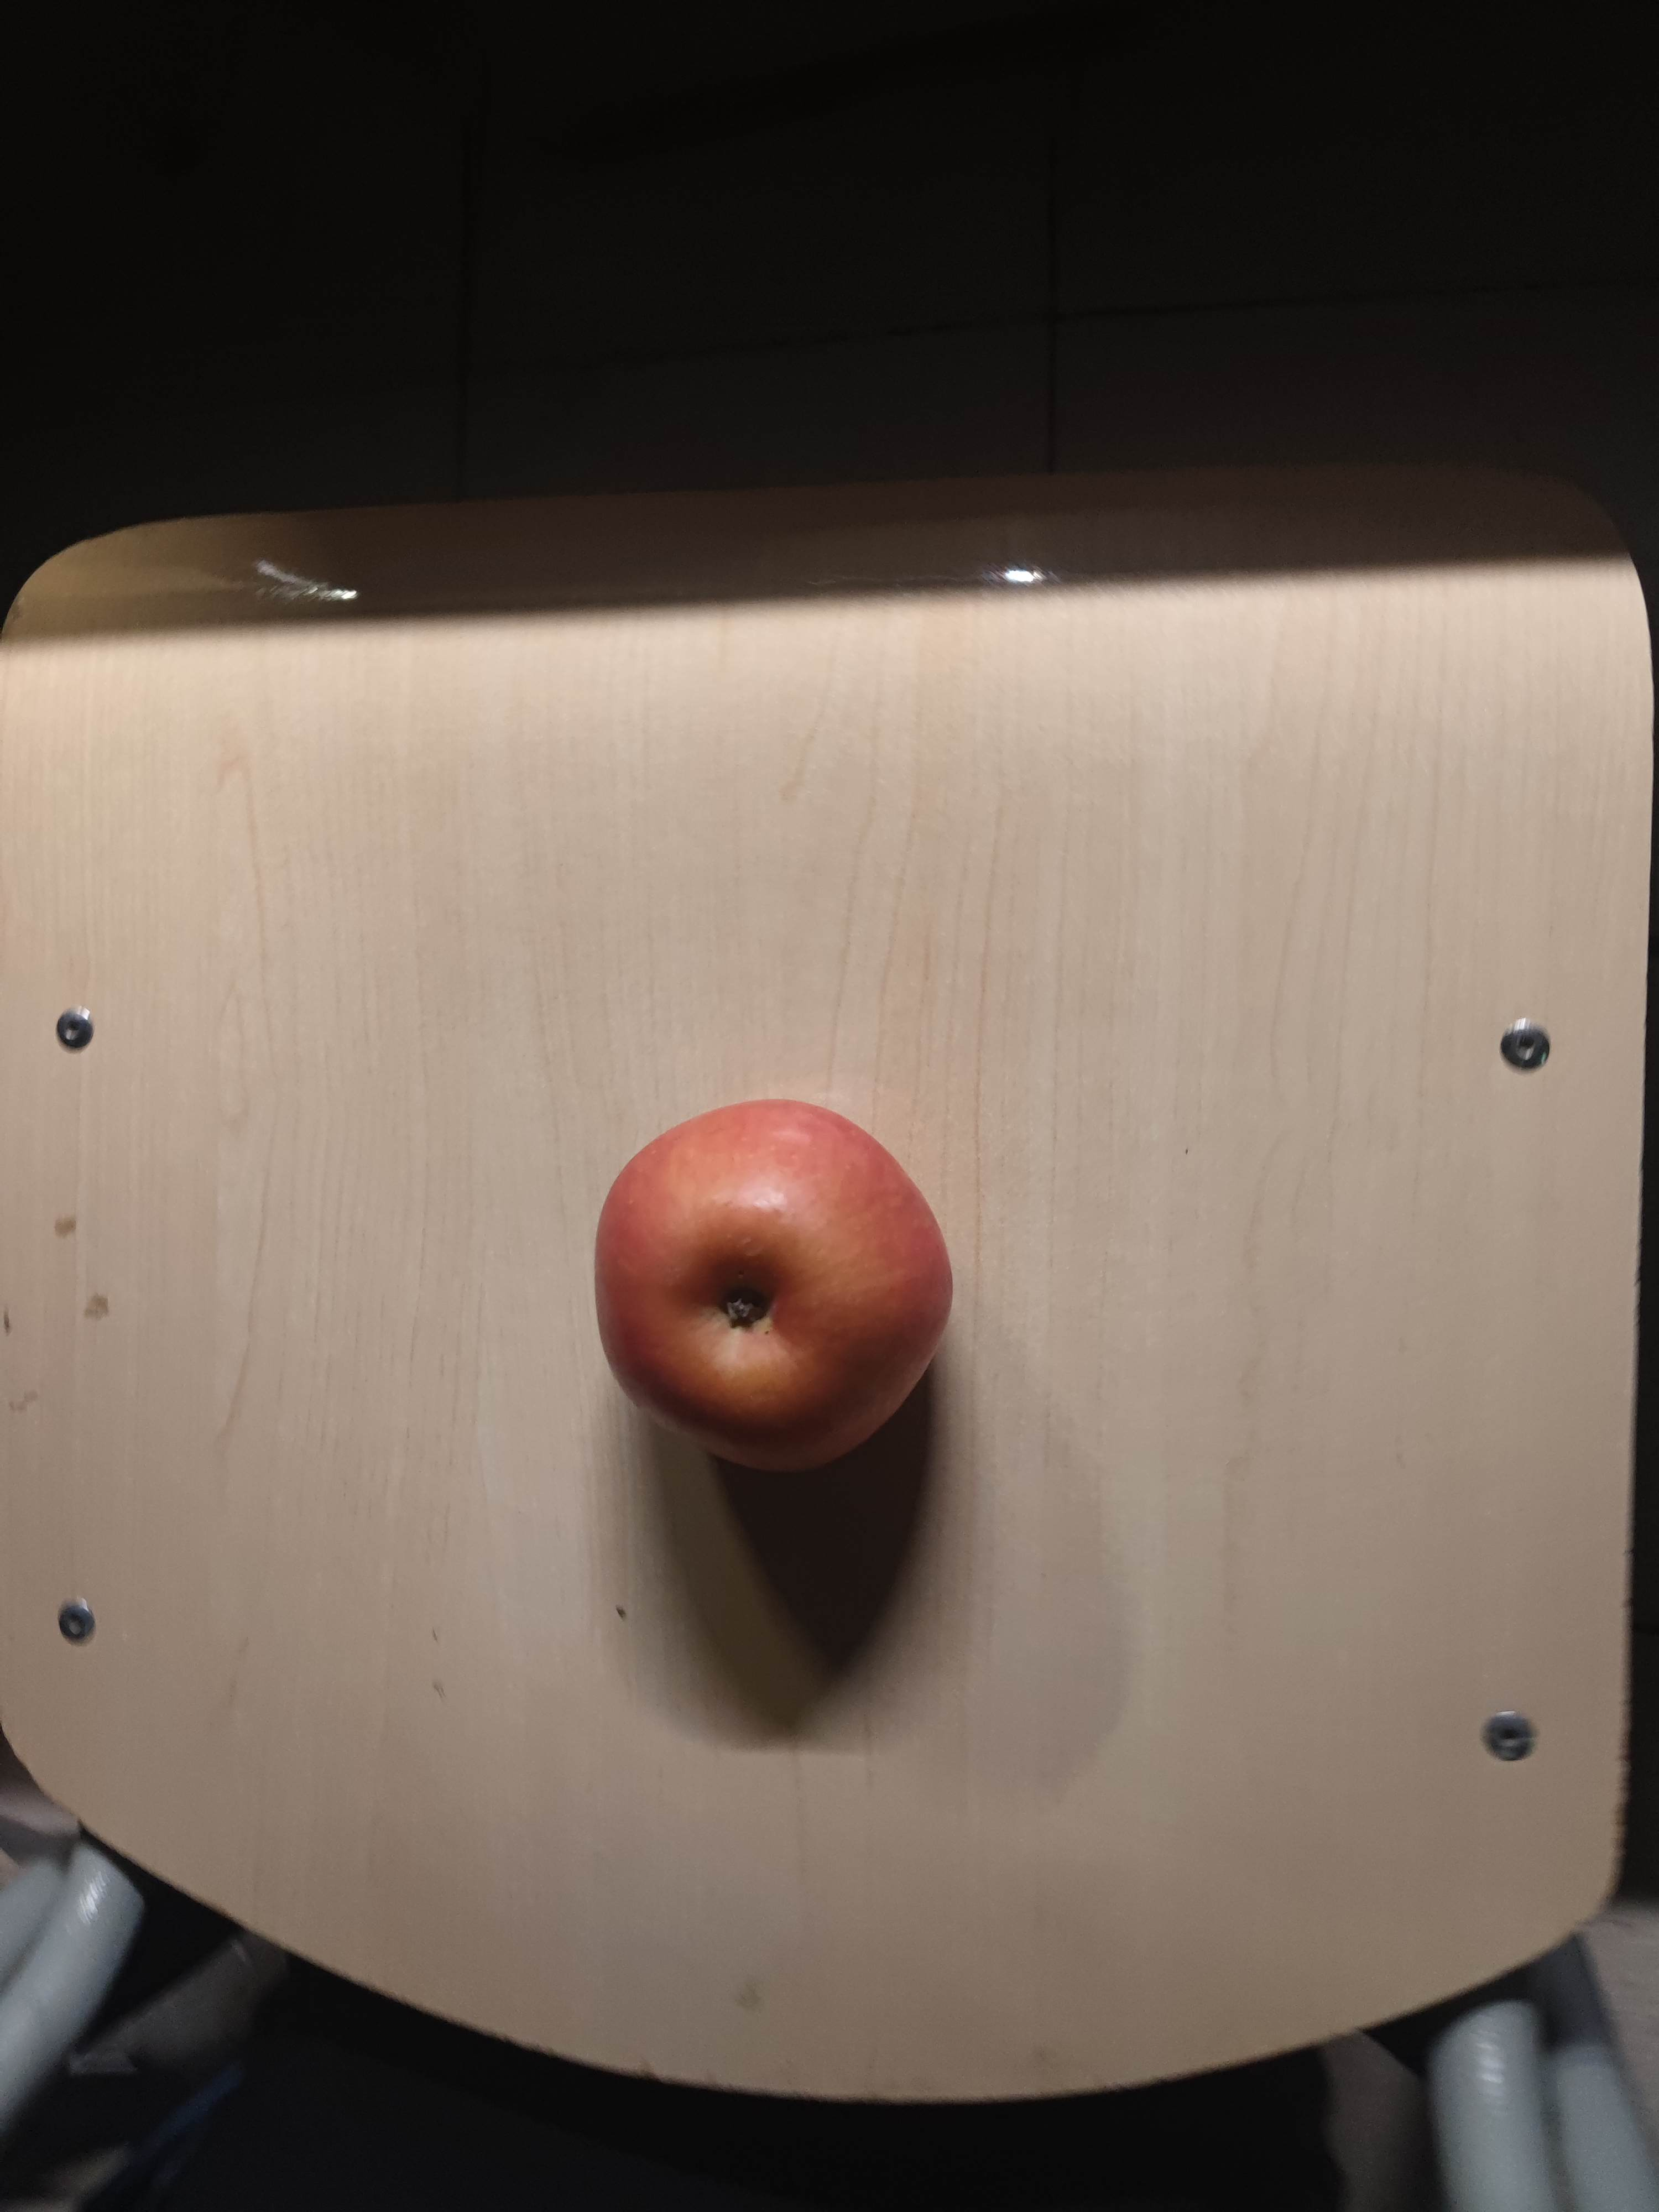apple: (592, 1099, 960, 1480)
